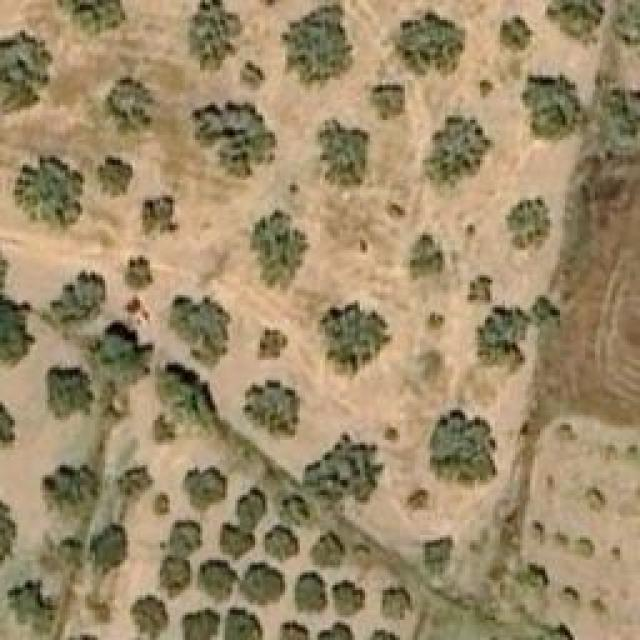Tree: (290, 432, 385, 510), (190, 100, 278, 178), (283, 5, 356, 90), (320, 303, 393, 373), (390, 13, 468, 78), (425, 115, 493, 188), (430, 410, 498, 483), (252, 213, 310, 293), (157, 365, 225, 433), (168, 295, 233, 365), (15, 158, 83, 223), (188, 0, 243, 75), (523, 75, 586, 140), (0, 30, 52, 107), (243, 380, 306, 443), (315, 118, 370, 188), (98, 317, 151, 385), (40, 462, 100, 520), (477, 308, 525, 373), (108, 77, 161, 135), (48, 268, 103, 323), (545, 0, 605, 48), (505, 192, 553, 250), (8, 578, 58, 633), (600, 88, 640, 148), (57, 0, 127, 32), (3, 300, 33, 365), (240, 563, 285, 606), (98, 523, 133, 576), (48, 368, 93, 408), (183, 465, 223, 508), (195, 558, 233, 603), (515, 563, 550, 608), (98, 155, 133, 198), (410, 235, 443, 278), (143, 195, 178, 235), (133, 598, 168, 638), (370, 82, 405, 120), (305, 533, 343, 568), (162, 520, 200, 555), (295, 573, 328, 613), (222, 607, 262, 640), (233, 485, 266, 523), (125, 255, 160, 290), (500, 15, 533, 50), (333, 580, 366, 615), (182, 607, 217, 640), (158, 555, 188, 593), (425, 538, 453, 578), (118, 468, 153, 498), (223, 520, 253, 555), (418, 350, 443, 383), (270, 528, 295, 561), (260, 330, 288, 358), (240, 60, 265, 90), (468, 275, 493, 303), (313, 623, 354, 640), (537, 622, 575, 640), (532, 298, 560, 321), (560, 583, 585, 608), (425, 313, 445, 343), (278, 620, 308, 640), (408, 485, 431, 510), (88, 598, 111, 623), (585, 485, 605, 513), (553, 418, 576, 441), (383, 593, 403, 618), (573, 533, 593, 558), (362, 627, 397, 640), (155, 495, 170, 515)
